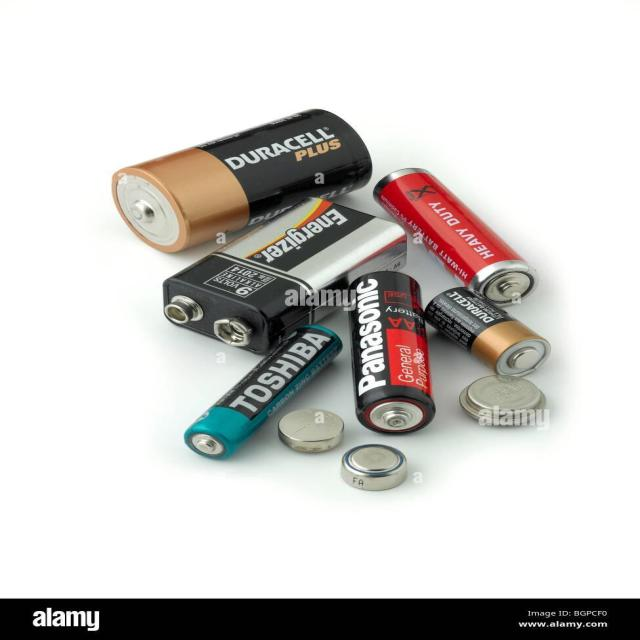AA: (368, 166, 542, 309), (179, 322, 346, 463), (346, 269, 440, 437)
COIN: (456, 373, 551, 428), (338, 442, 410, 493), (276, 407, 346, 454)
